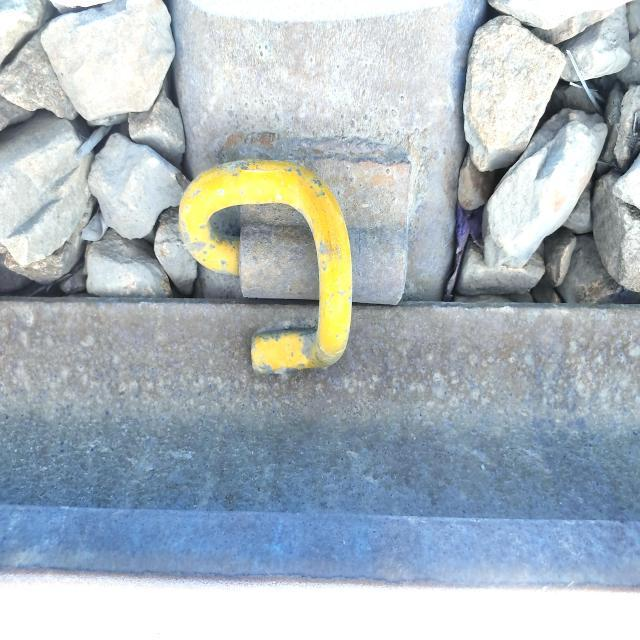Good Fasteners: (174, 126, 451, 384)
